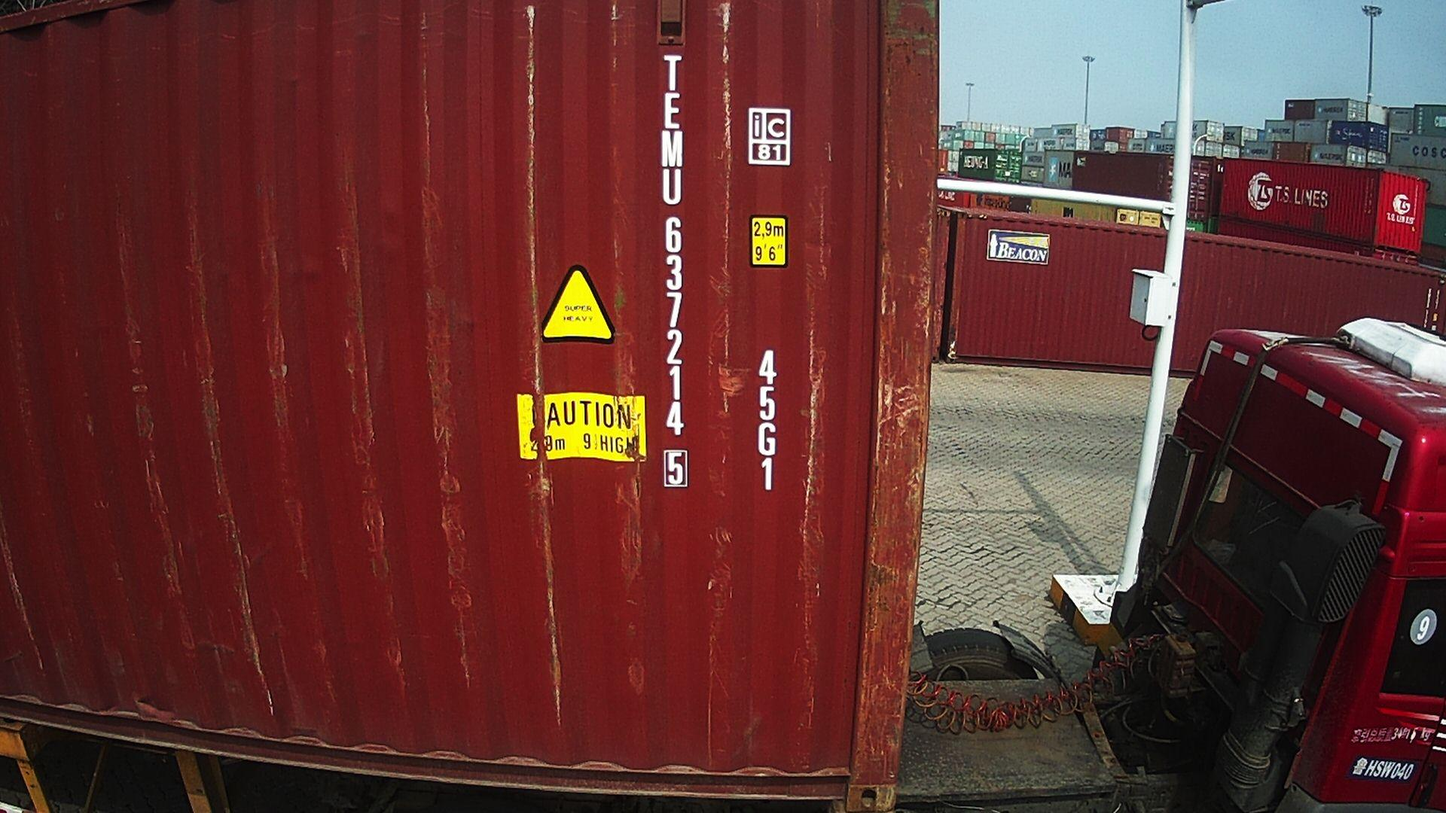container-numbers: (655, 50, 693, 491), (755, 346, 781, 495)
